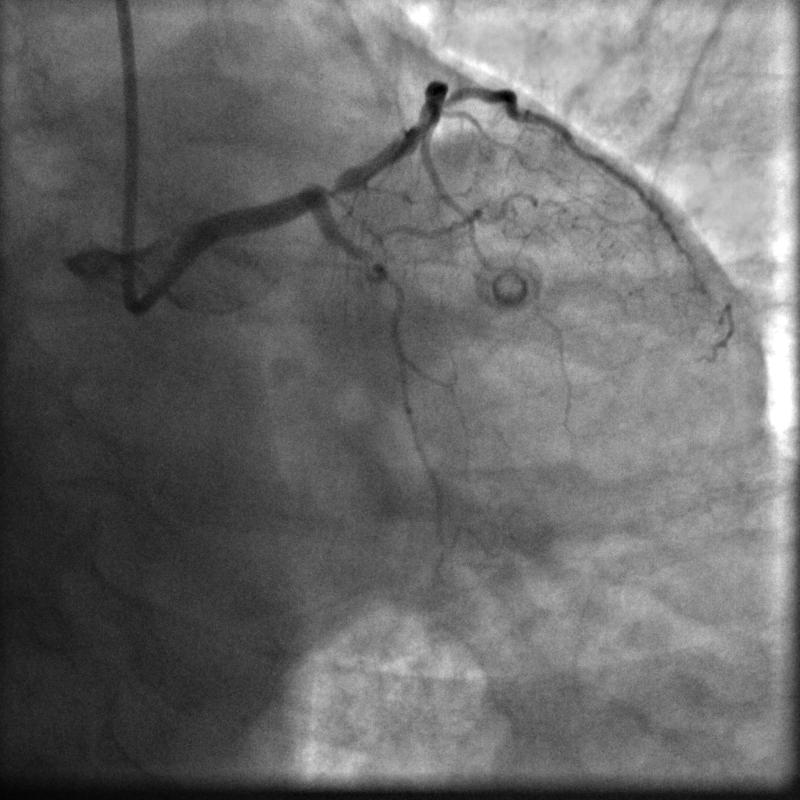Stenosis: (308, 167, 356, 207)
